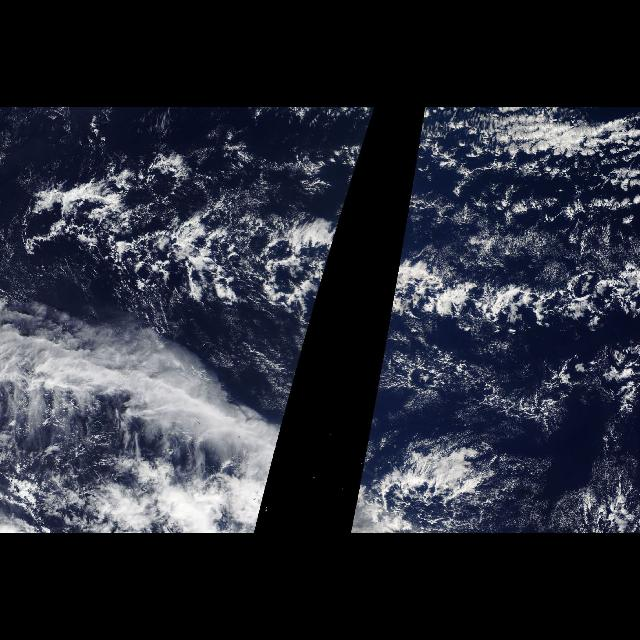Fish: (366, 110, 640, 444), (2, 148, 364, 340)
Gravel: (396, 356, 570, 426)
